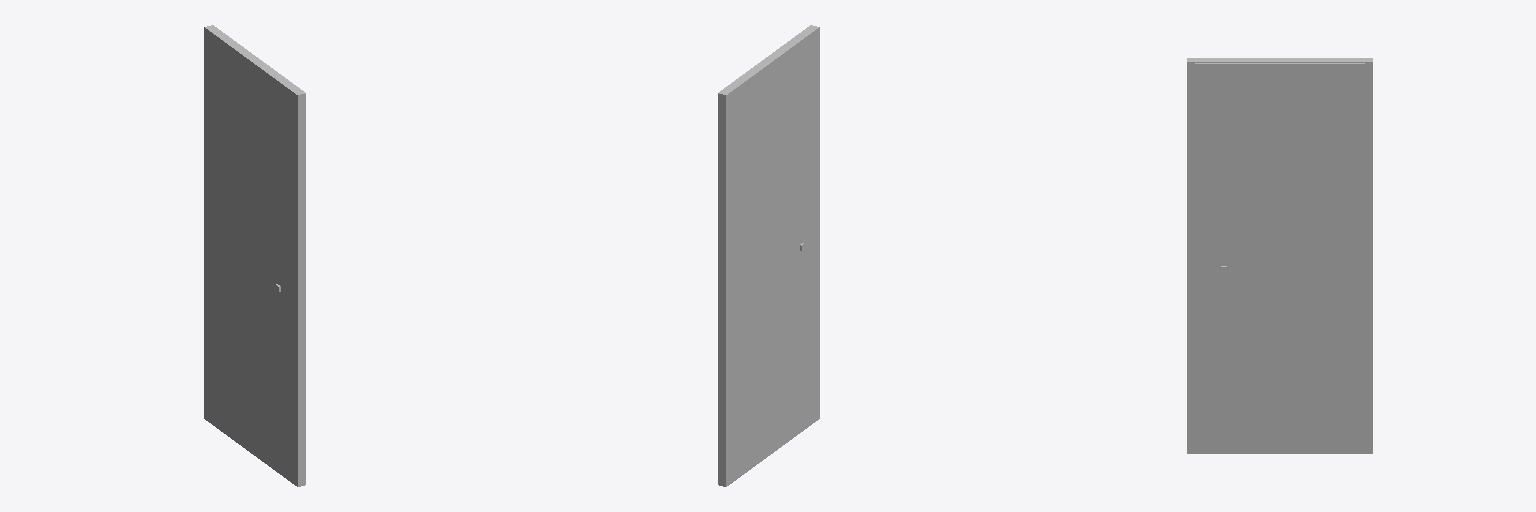
The model's file is deur.obj.
The picture shows the model from 3 angles: view 1: azimuth 30°, elevation 25°; view 2: azimuth 150°, elevation 25°; view 3: azimuth 270°, elevation 25°; orthographic projection.
Visible parts, largest first — view 1: Cube.003_Cube.004; view 2: Cube.003_Cube.004; view 3: Cube_Cube.001, Cube.003_Cube.004.
Part boxes in pixels (x1,y1,x2,y2): Cube.003_Cube.004: (204, 25, 305, 486); Cube.003_Cube.004: (718, 25, 819, 486); Cube_Cube.001: (1195, 63, 1364, 453); Cube.003_Cube.004: (1187, 58, 1372, 453).
Size of the model in its own units: 0.19 by 5.1 by 2.2.